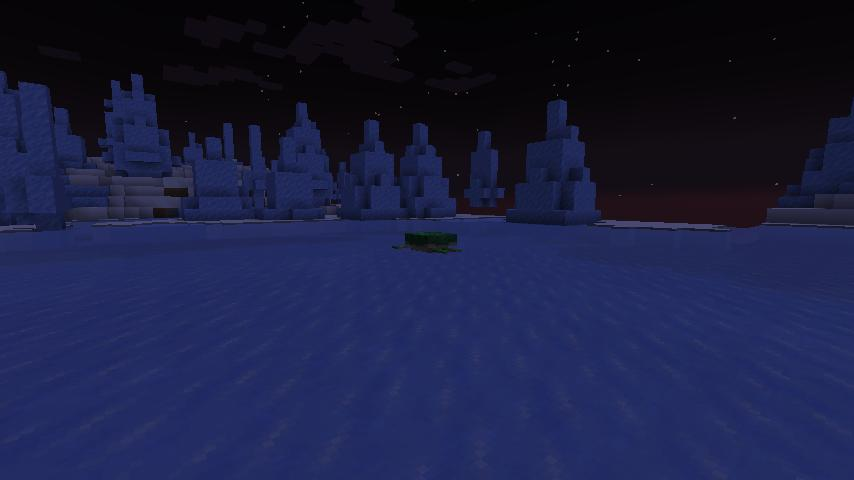turtle: (388, 226, 461, 258)
